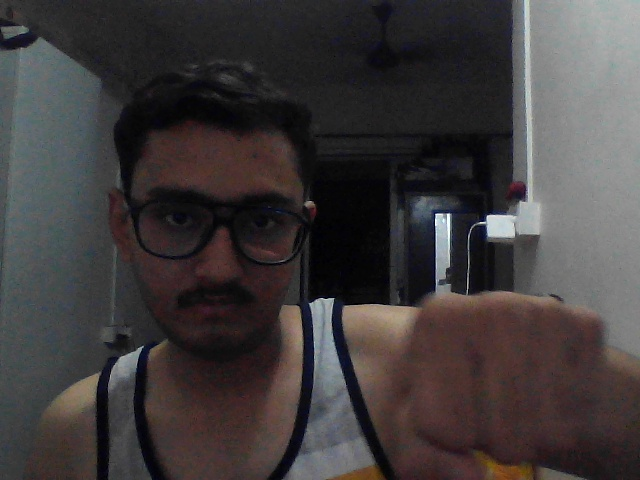Yes: (403, 255, 628, 480)
